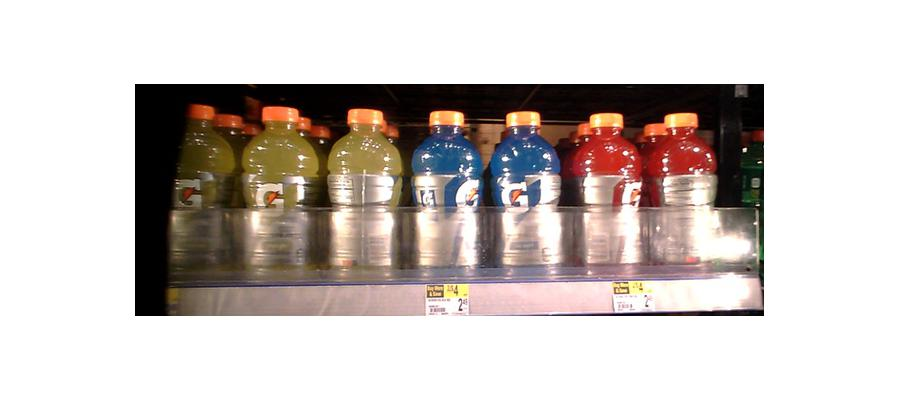bottle: (240, 103, 317, 278), (325, 106, 402, 276), (409, 109, 483, 280), (488, 108, 562, 279), (167, 100, 233, 282), (644, 108, 717, 271), (574, 111, 643, 276)
